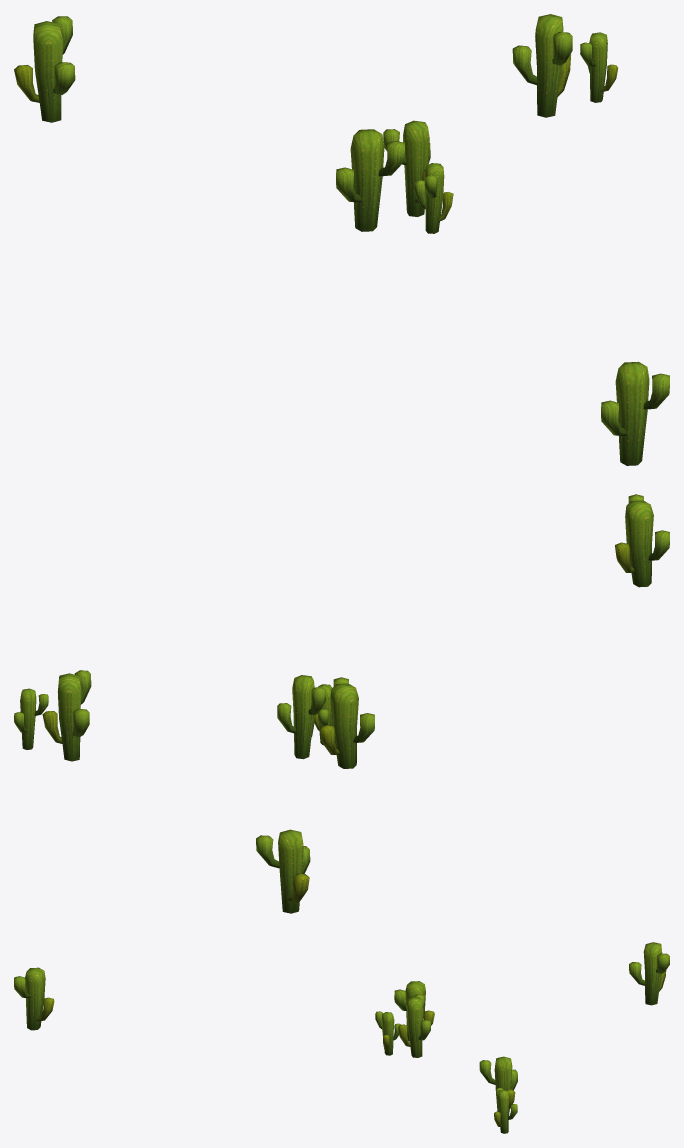
Rendered from xianrenzhang02.fbx.
3 renders of one model, top to bottom at view 1: azimuth 30°, elevation 25°; view 2: azimuth 150°, elevation 25°; view 3: azimuth 270°, elevation 25°, orthographic. The views are drawn at different scales.
Parts seen in each view (by area): view 1: xianrenzhang02; view 2: xianrenzhang02; view 3: xianrenzhang02.
Boxes of the visible parts, x1,y1,x2,y2 form: xianrenzhang02: (14, 14, 669, 465); xianrenzhang02: (14, 494, 669, 913); xianrenzhang02: (14, 942, 669, 1133).
Bounding box in the file's own units: 3053 × 595 × 5942.
1 material, 1 textured.
